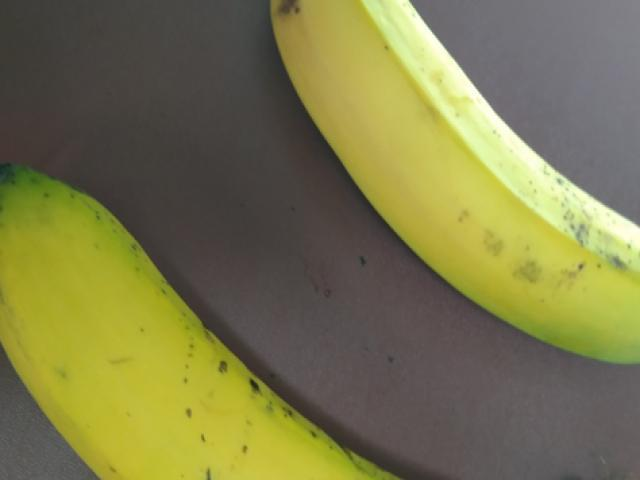freshripe: (248, 3, 639, 364)
ripe: (12, 154, 385, 479)
